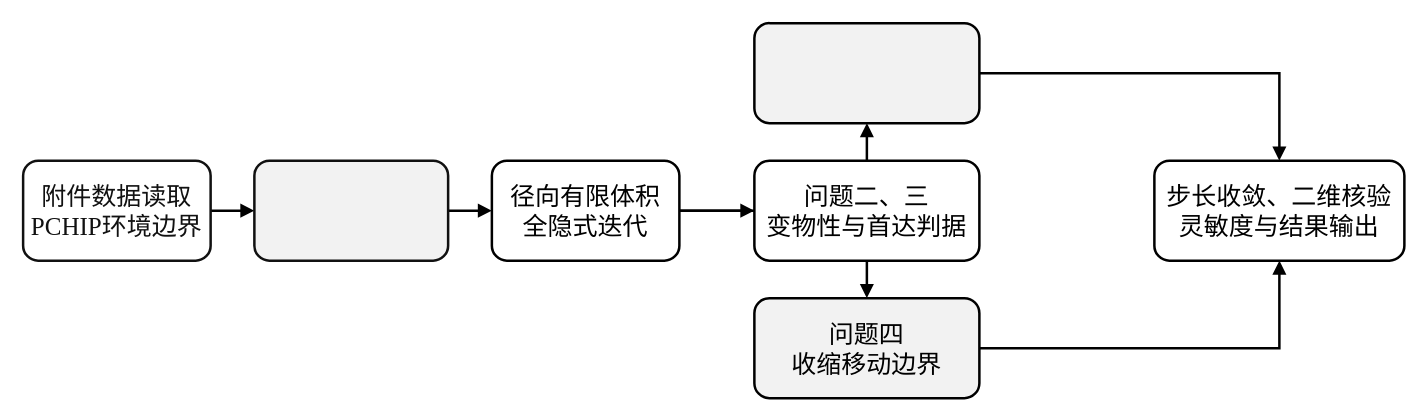
Some shapes in this 1426 by 420 pixel diagram are drawn without their labels. The box of each missing label's shape, as (x1, y1, x2, y2) in pixels:
Fourier–Fick 方程 双 Robin 边界: (252, 159, 449, 261)
问题一 恒定热物性预热: (752, 21, 980, 124)
